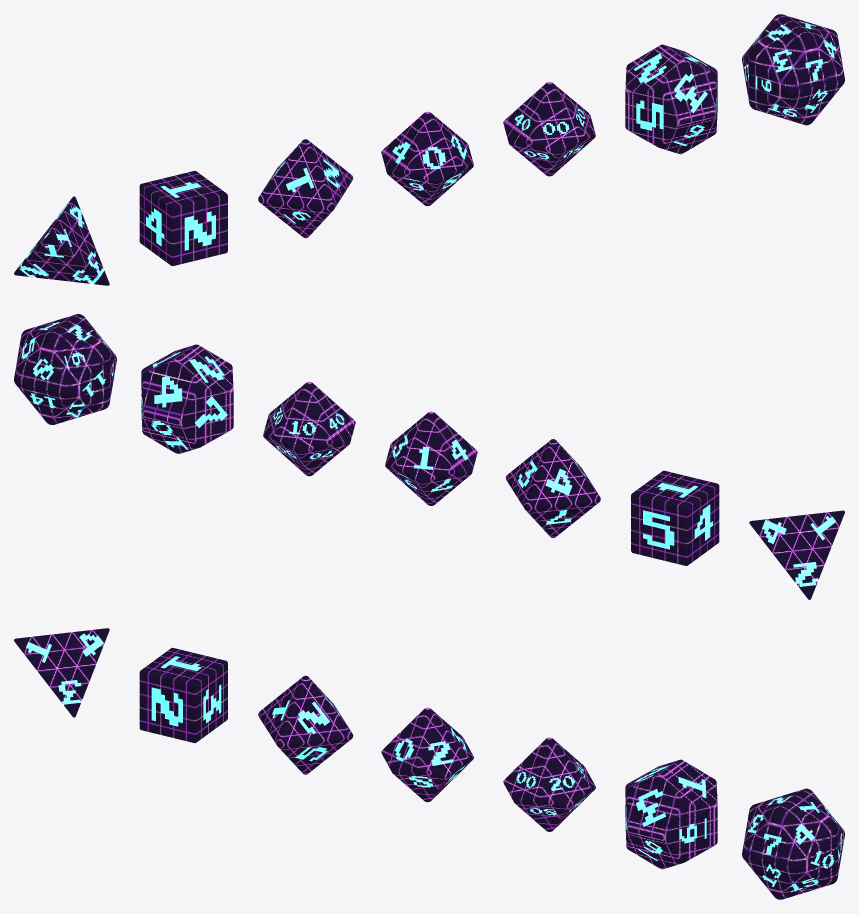
File: synthwave.glb
The picture shows the model from 3 angles, top to bottom: view 1: azimuth 30°, elevation 25°; view 2: azimuth 150°, elevation 25°; view 3: azimuth 330°, elevation 25°; orthographic projection.
Visible parts, largest first — view 1: d20, d12, d6, d100, d10, d8, d4; view 2: d20, d12, d6, d100, d10, d8, d4; view 3: d20, d12, d6, d8, d10, d100, d4.
Boxes of the visible parts, x1=… form: d20: x1=742, y1=14, x2=844, y2=125; d12: x1=625, y1=44, x2=717, y2=154; d6: x1=139, y1=171, x2=227, y2=266; d100: x1=503, y1=82, x2=595, y2=176; d10: x1=381, y1=111, x2=473, y2=206; d8: x1=258, y1=139, x2=353, y2=238; d4: x1=14, y1=196, x2=109, y2=285; d20: x1=14, y1=314, x2=116, y2=424; d12: x1=141, y1=344, x2=233, y2=453; d6: x1=631, y1=470, x2=719, y2=565; d100: x1=263, y1=382, x2=355, y2=476; d10: x1=385, y1=411, x2=477, y2=505; d8: x1=505, y1=439, x2=600, y2=537; d4: x1=749, y1=510, x2=844, y2=599; d20: x1=742, y1=788, x2=844, y2=899; d12: x1=625, y1=759, x2=717, y2=869; d6: x1=139, y1=647, x2=227, y2=742; d8: x1=258, y1=675, x2=353, y2=774; d10: x1=381, y1=707, x2=473, y2=802; d100: x1=503, y1=737, x2=595, y2=831; d4: x1=14, y1=628, x2=109, y2=717.
Size of the model in its own units: 21.14 by 2.47 by 2.47.
14 materials, 7 textured.
